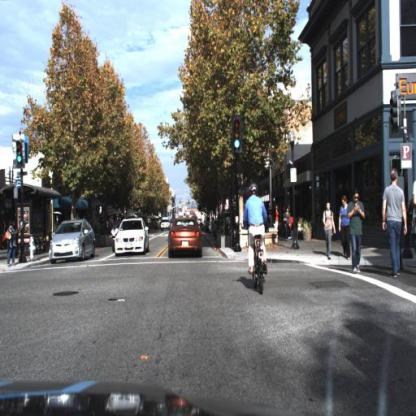biker: (245, 181, 269, 301), (112, 215, 122, 256)
car: (49, 216, 97, 266), (168, 214, 205, 263), (114, 215, 150, 257)
pedestrian: (383, 168, 409, 281), (347, 193, 366, 276), (323, 200, 337, 261), (340, 195, 352, 263), (6, 220, 20, 267), (274, 203, 283, 243), (285, 204, 294, 238), (296, 214, 306, 238)
trafficLight: (232, 119, 242, 150)
